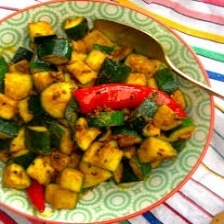sabzi: (0, 15, 196, 214)
